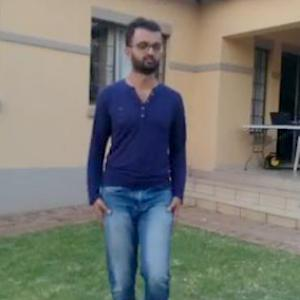follow: (97, 31, 187, 299)
